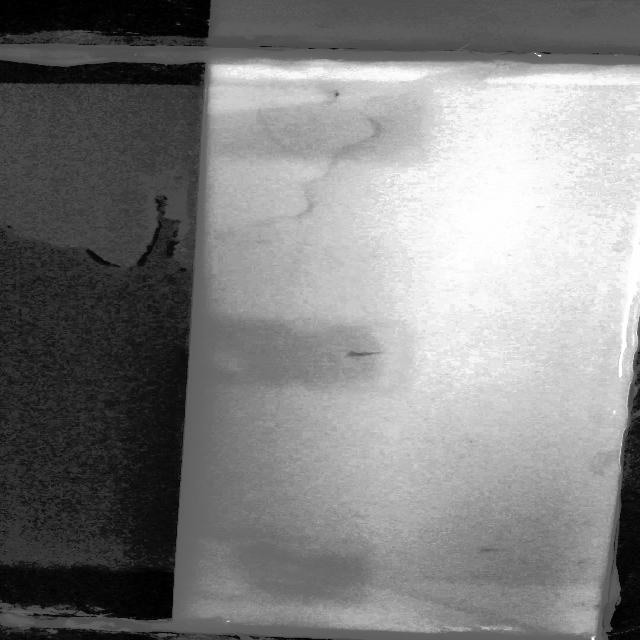shrimp: (342, 345, 385, 362), (474, 548, 506, 558), (324, 88, 346, 100)
